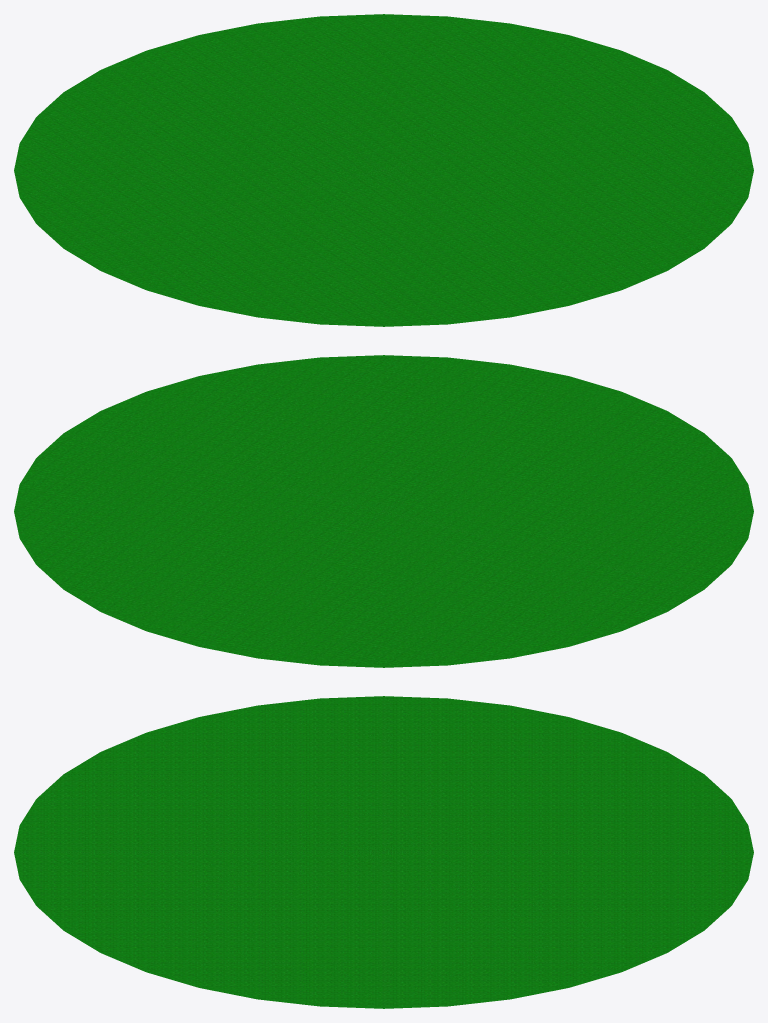
The model's file is grass.obj.
3 views of the same model, one above another, from view 1: azimuth 30°, elevation 25°; view 2: azimuth 150°, elevation 25°; view 3: azimuth 270°, elevation 25° (orthographic).
Visible parts, largest first — view 1: grass; view 2: grass; view 3: grass.
Boxes of the visible parts, box(x1,y1,x2,y2) form: grass: box(14, 14, 753, 326); grass: box(14, 355, 753, 667); grass: box(14, 696, 753, 1008).
Bounding box in the file's own units: 10000 × 0 × 10000.
1 material, 1 textured.
